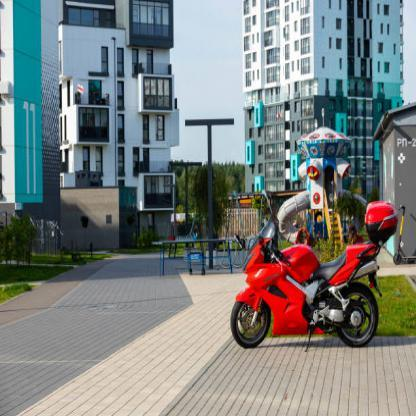Motorcycle: (234, 187, 386, 358)
